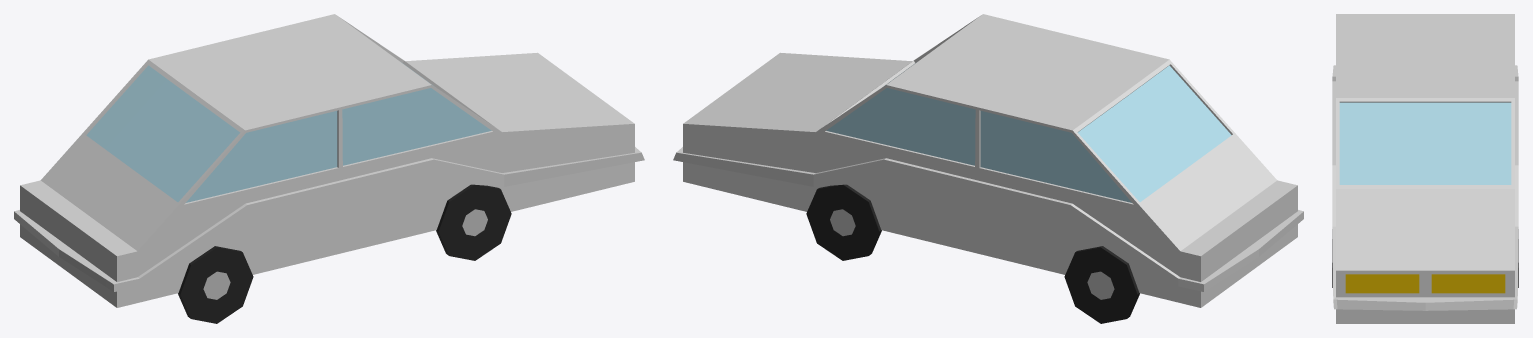
File: Coche_Blanco.fbx
The picture shows the model from 3 angles, left to right: view 1: azimuth 30°, elevation 25°; view 2: azimuth 150°, elevation 25°; view 3: azimuth 270°, elevation 25°; orthographic projection. The views are drawn at different scales.
Parts seen in each view (by area): view 1: Cube, Cylinder.001, Cylinder; view 2: Cube, Cylinder.001, Cylinder; view 3: Cube.
Part boxes in pixels (x1,y1,x2,y2): Cube: (14, 14, 644, 307); Cylinder.001: (178, 246, 253, 323); Cylinder: (436, 184, 511, 260); Cube: (673, 14, 1303, 307); Cylinder.001: (1064, 246, 1139, 323); Cylinder: (806, 184, 881, 260); Cube: (1332, 14, 1518, 323).
Bounding box in the file's own units: 400 × 131 × 129.
